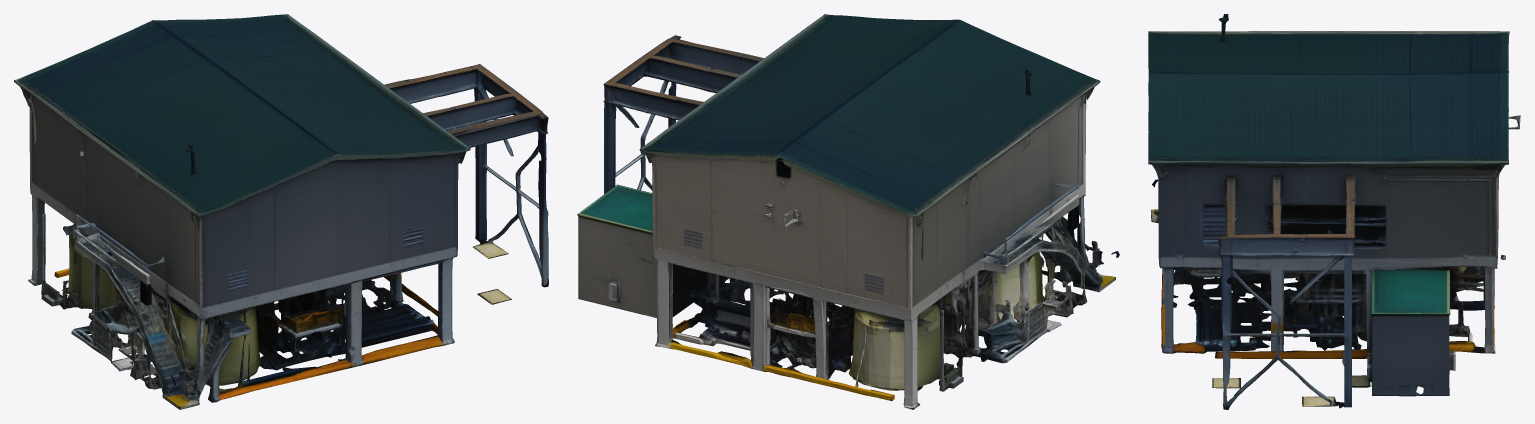
The picture shows the model from 3 angles, left to right: view 1: azimuth 30°, elevation 25°; view 2: azimuth 150°, elevation 25°; view 3: azimuth 270°, elevation 25°; orthographic projection. The views are drawn at different scales.
Visible parts, largest first — view 1: world; view 2: world; view 3: world.
Boxes of the visible parts, <box> form: world: <box>14,14,548,409</box>; world: <box>577,14,1119,409</box>; world: <box>1148,14,1520,409</box>.
Size of the model in its own units: 0.9991 by 0.5446 by 0.7984.
1 material, 1 textured.
